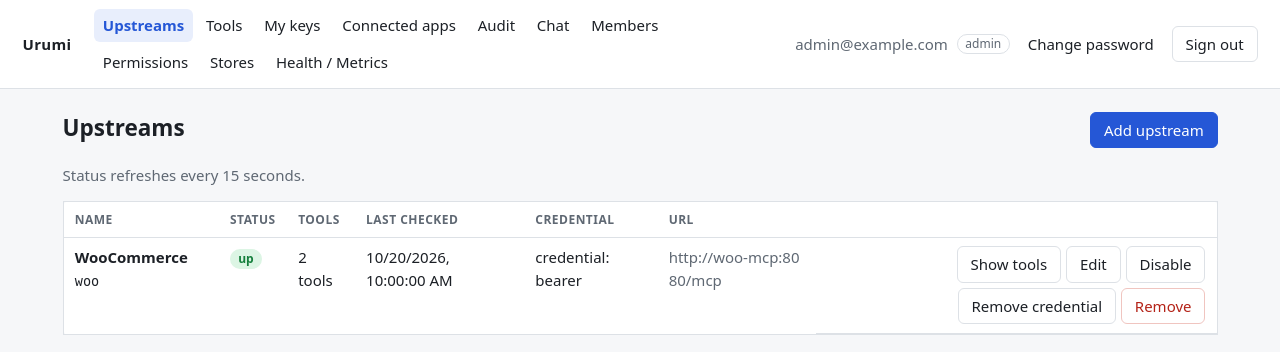
Test: admin upstream management › disables, removes the credential, and removes an upstream
This screenshot has width=1280, height=352.
Click the button "Disable". click: [1166, 264]
box: [1126,246,1205,282]
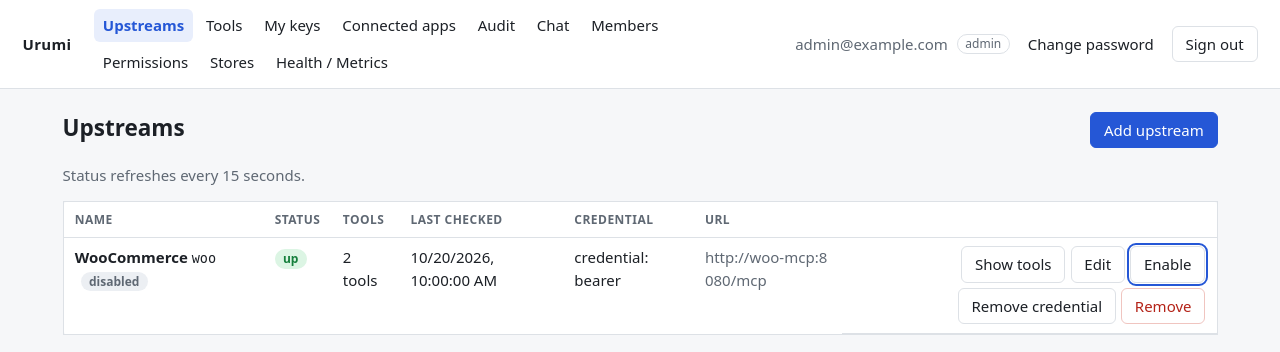
Click the button "Remove credential". click: [1037, 306]
box: [958,288,1116,324]
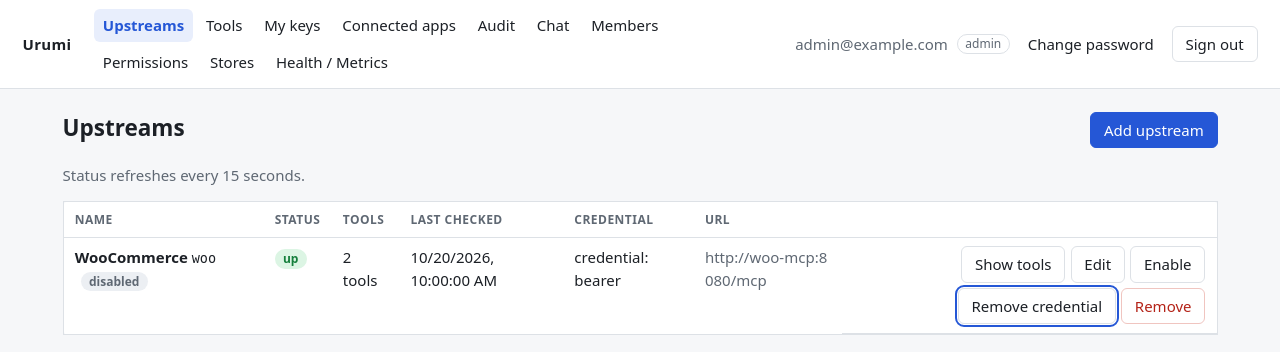
Click the button "Remove". click: [1163, 306]
box: [1121,288,1205,324]
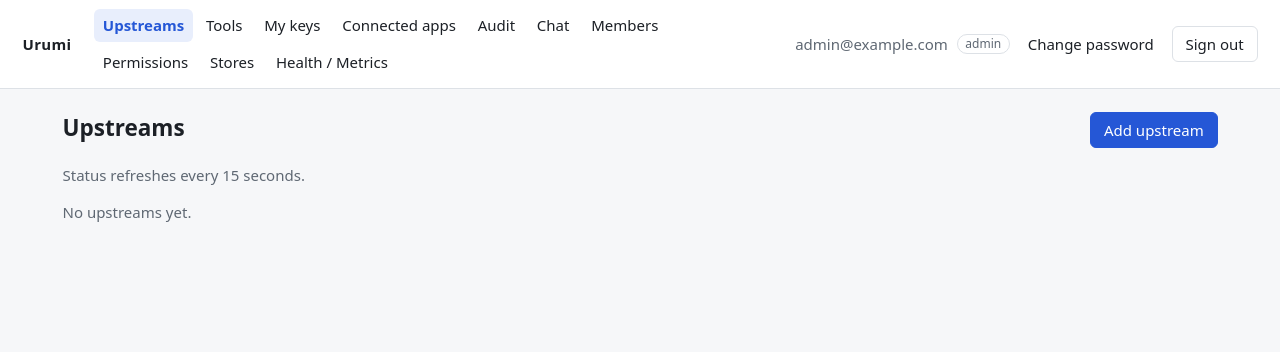
Result: the text "WooCommerce" is gone
